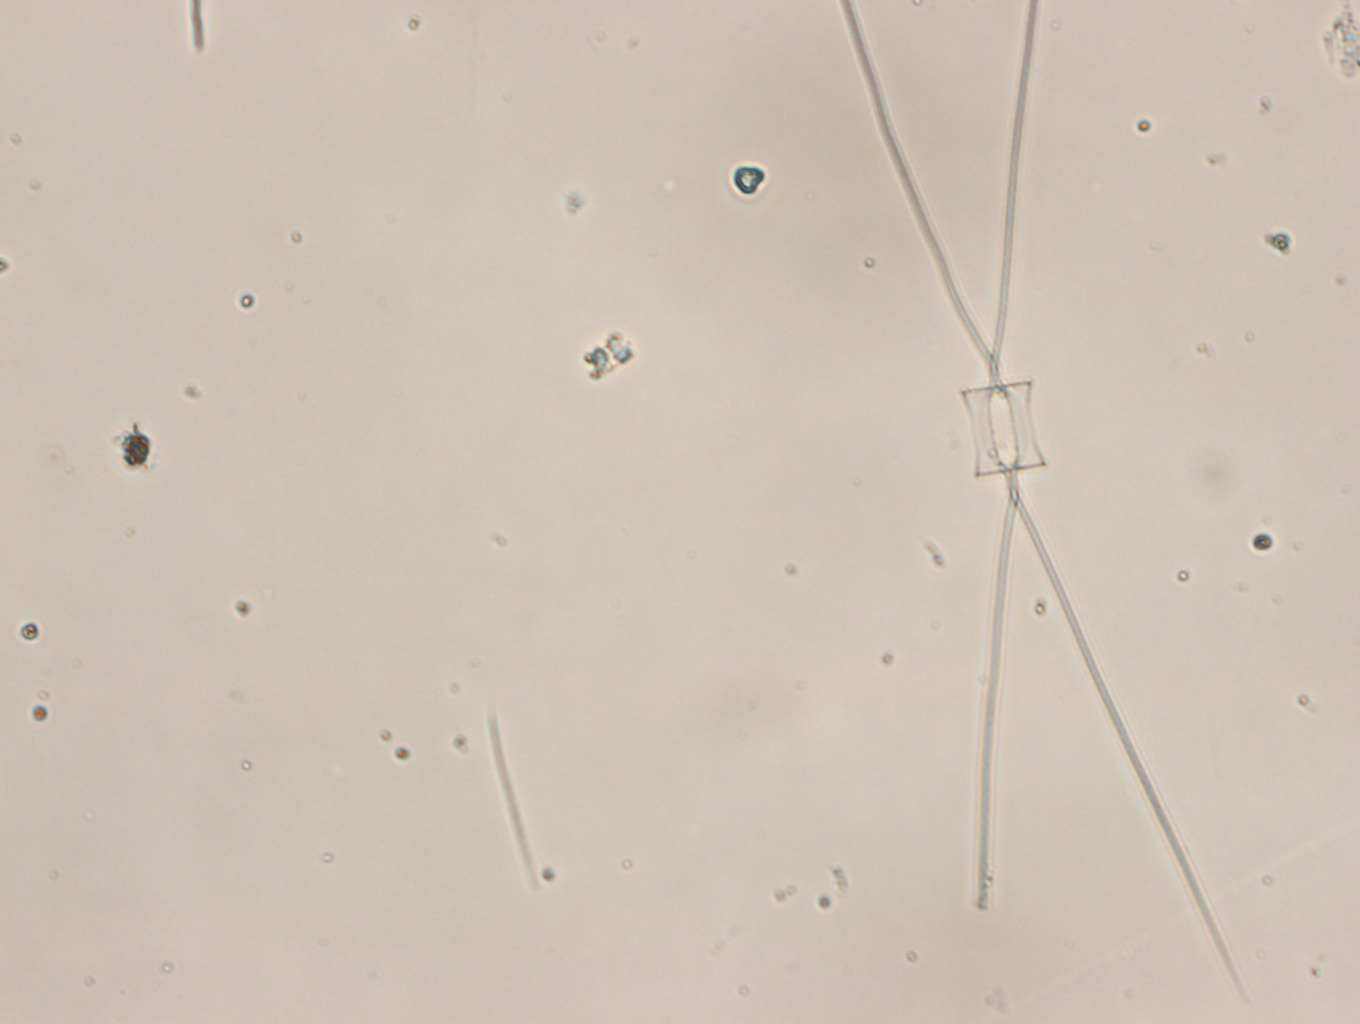chaetoceros: (831, 1, 1246, 1013)
